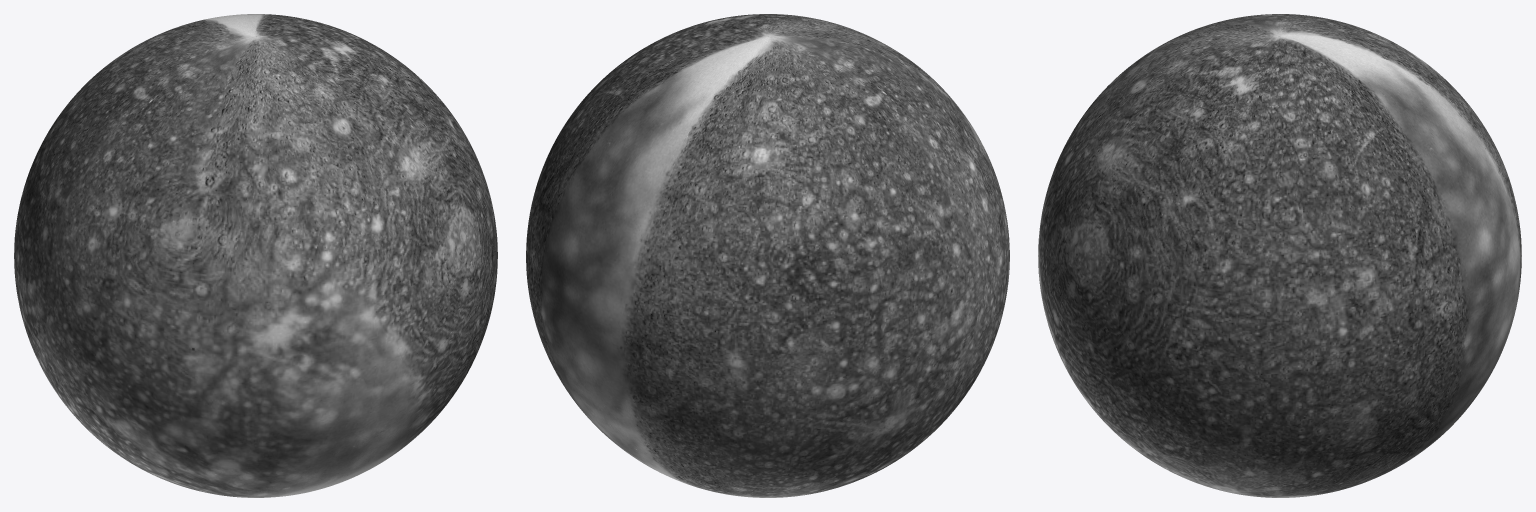
Rendered from callisto.glb.
The picture shows the model from 3 angles, left to right: view 1: azimuth 30°, elevation 25°; view 2: azimuth 150°, elevation 25°; view 3: azimuth 270°, elevation 25°; orthographic projection.
Visible parts, largest first — view 1: Callisto_Asset; view 2: Callisto_Asset; view 3: Callisto_Asset.
Boxes of the visible parts, x1,y1,x2,y2 form: Callisto_Asset: [14, 14, 497, 497]; Callisto_Asset: [526, 14, 1009, 497]; Callisto_Asset: [1038, 14, 1521, 497].
Bounding box in the file's own units: 0.6391 × 0.6401 × 0.6391.
1 material, 1 textured.
